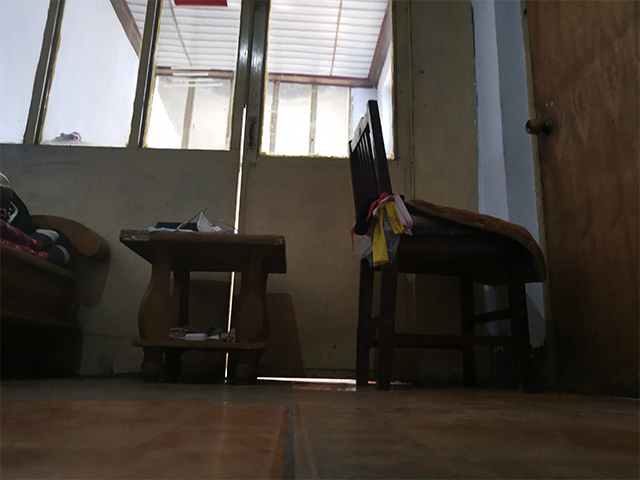stool: (344, 98, 541, 395), (1, 171, 112, 377)
table: (116, 228, 290, 386)
